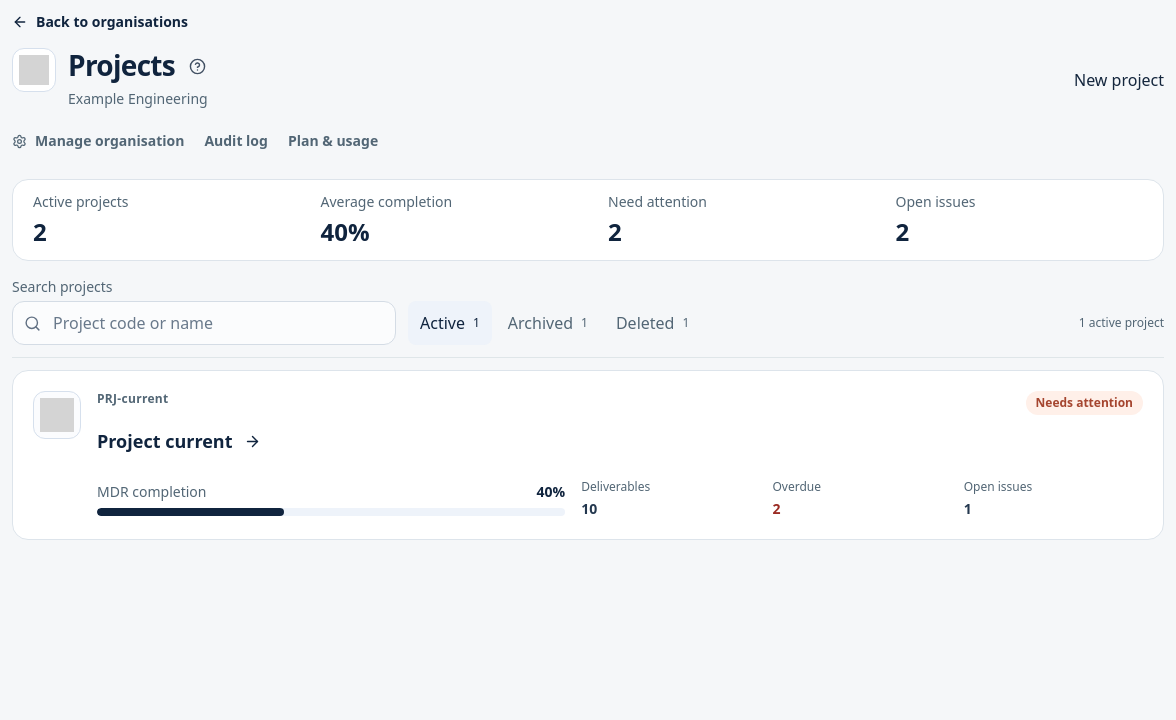
Scenario: organisation project status navigation › keeps archives and deleted projects separate, preserving the deleted administration destination
Click the button "Archived 1" at (548, 323), box [496,301,600,345]
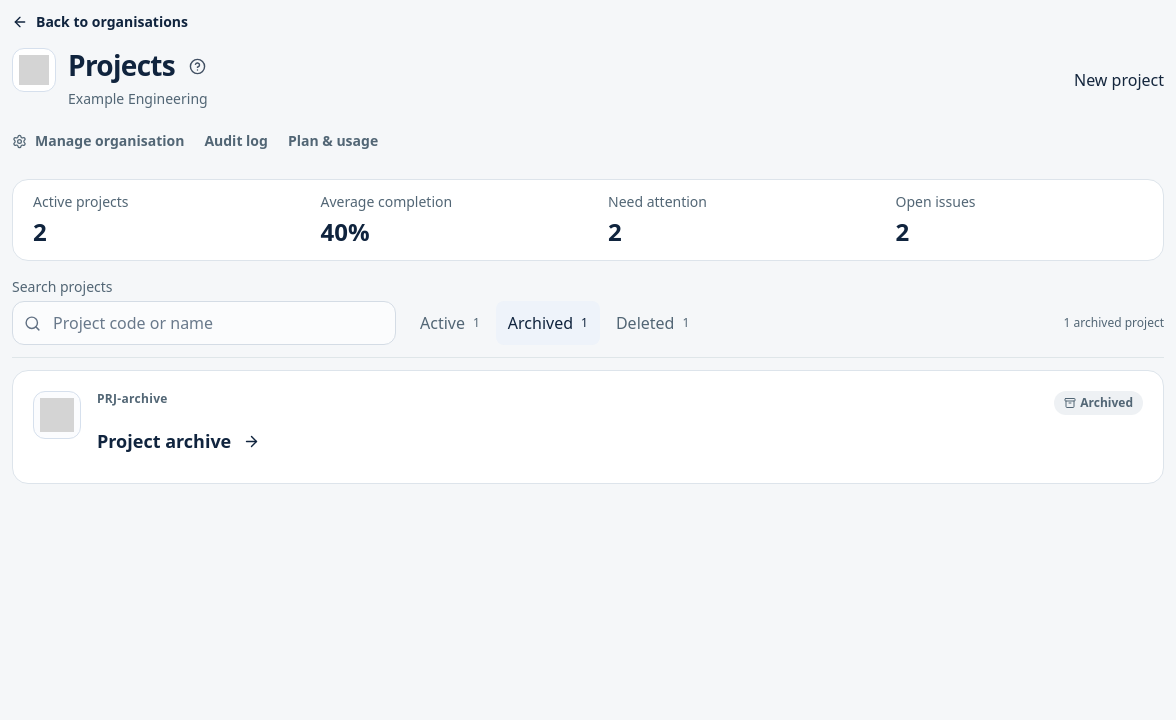
Expected: the message reads "1 archived project", [1064,315,1164,331]
Expected: the progress indicator is gone
Click the button "Deleted 1" at (653, 323), box [604,301,701,345]
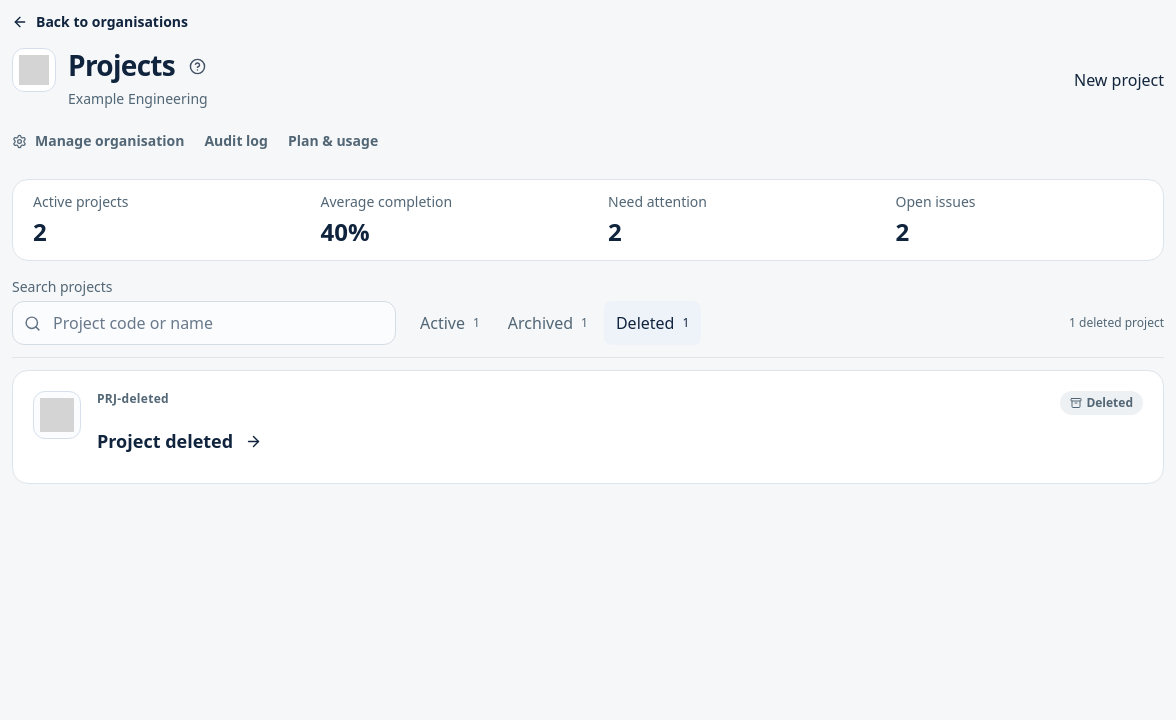
Expected: the message reads "1 deleted project", [1069,315,1164,331]
